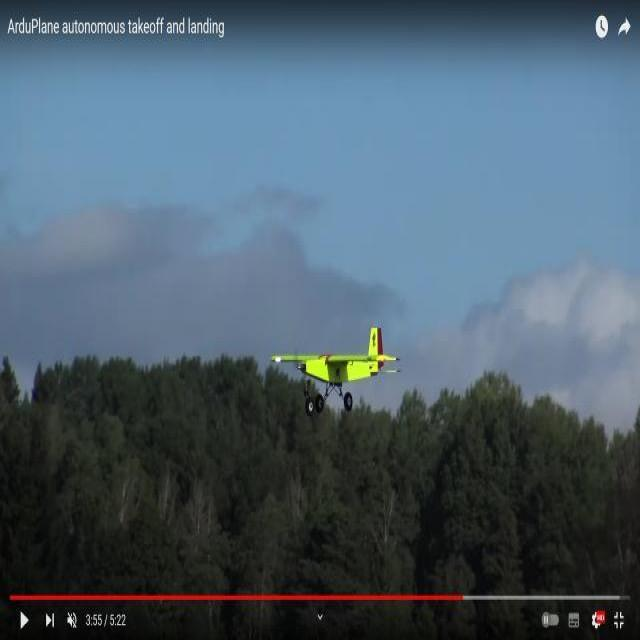UAV: (276, 318, 396, 428)
